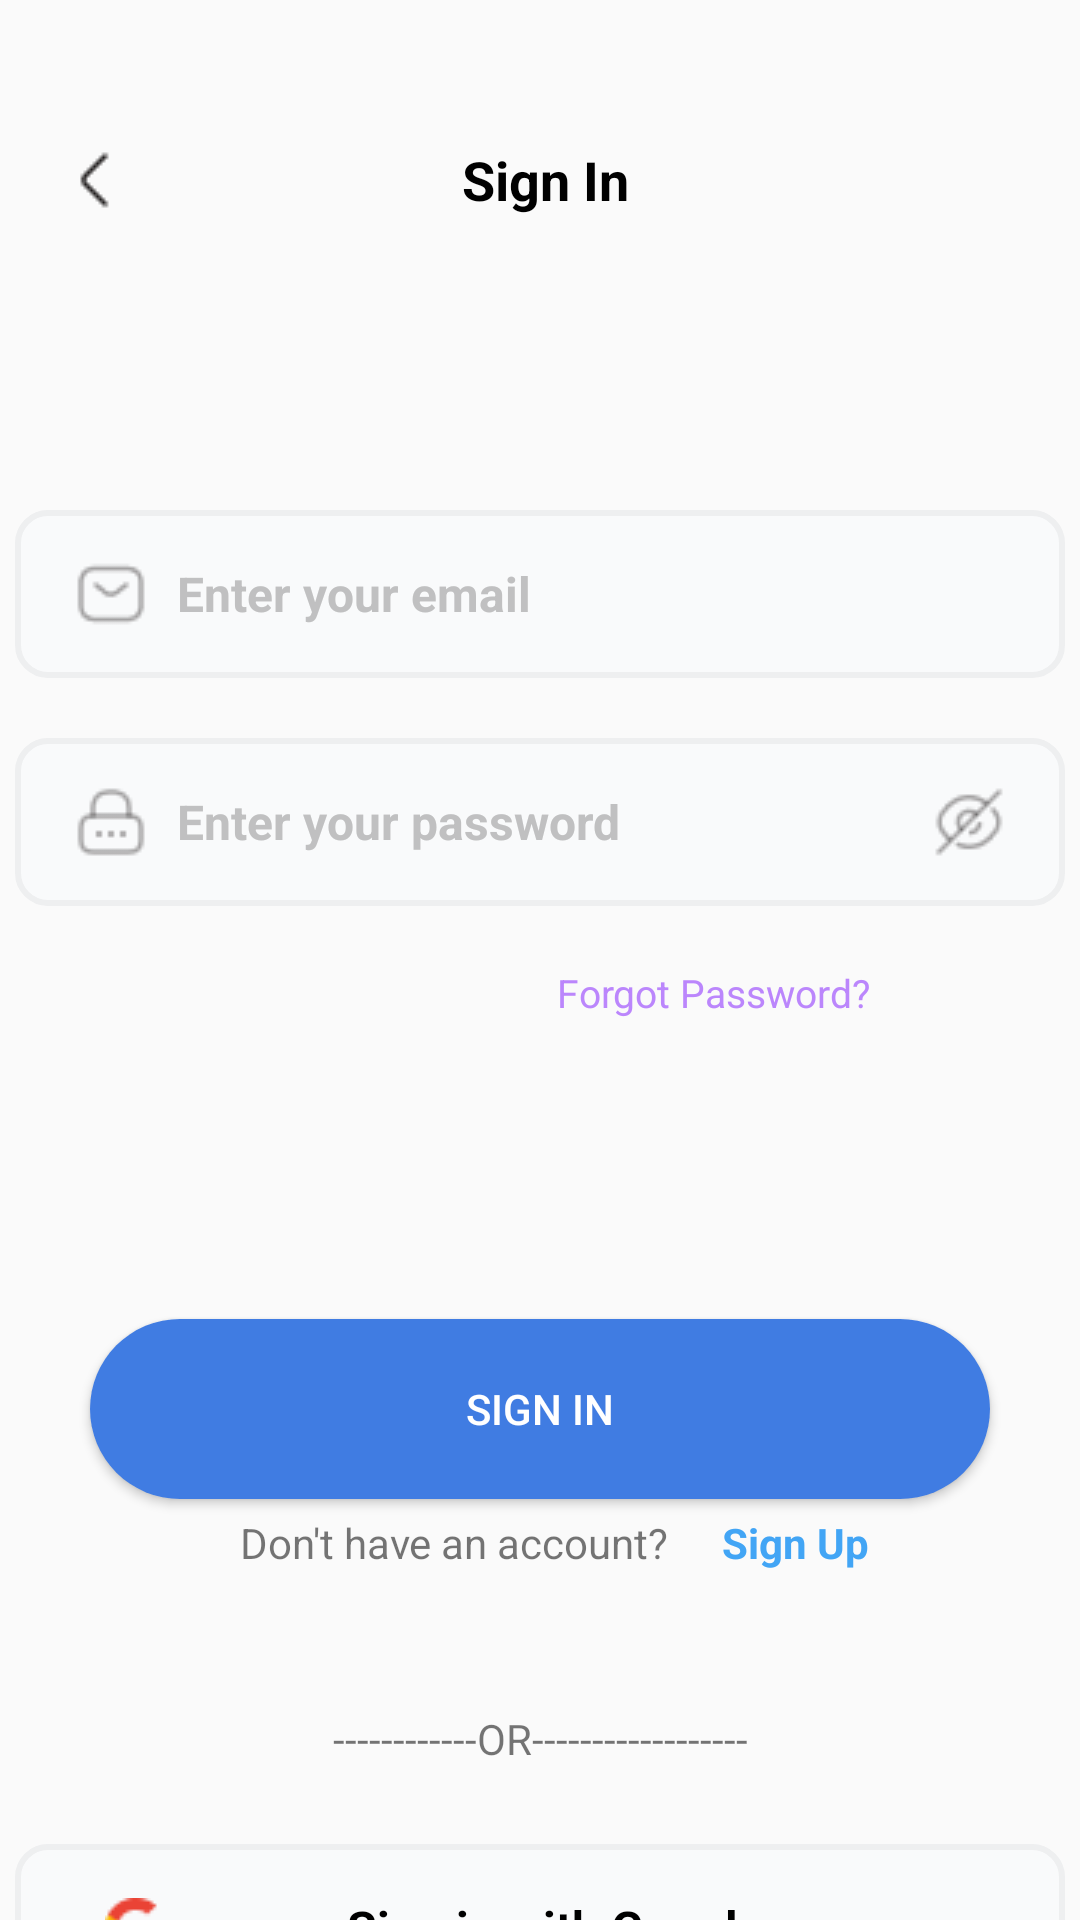

Point at icon controls on the screen. Image size 1080w x 1920h, points as point (x, y).
chevronleft: point (94, 180)
